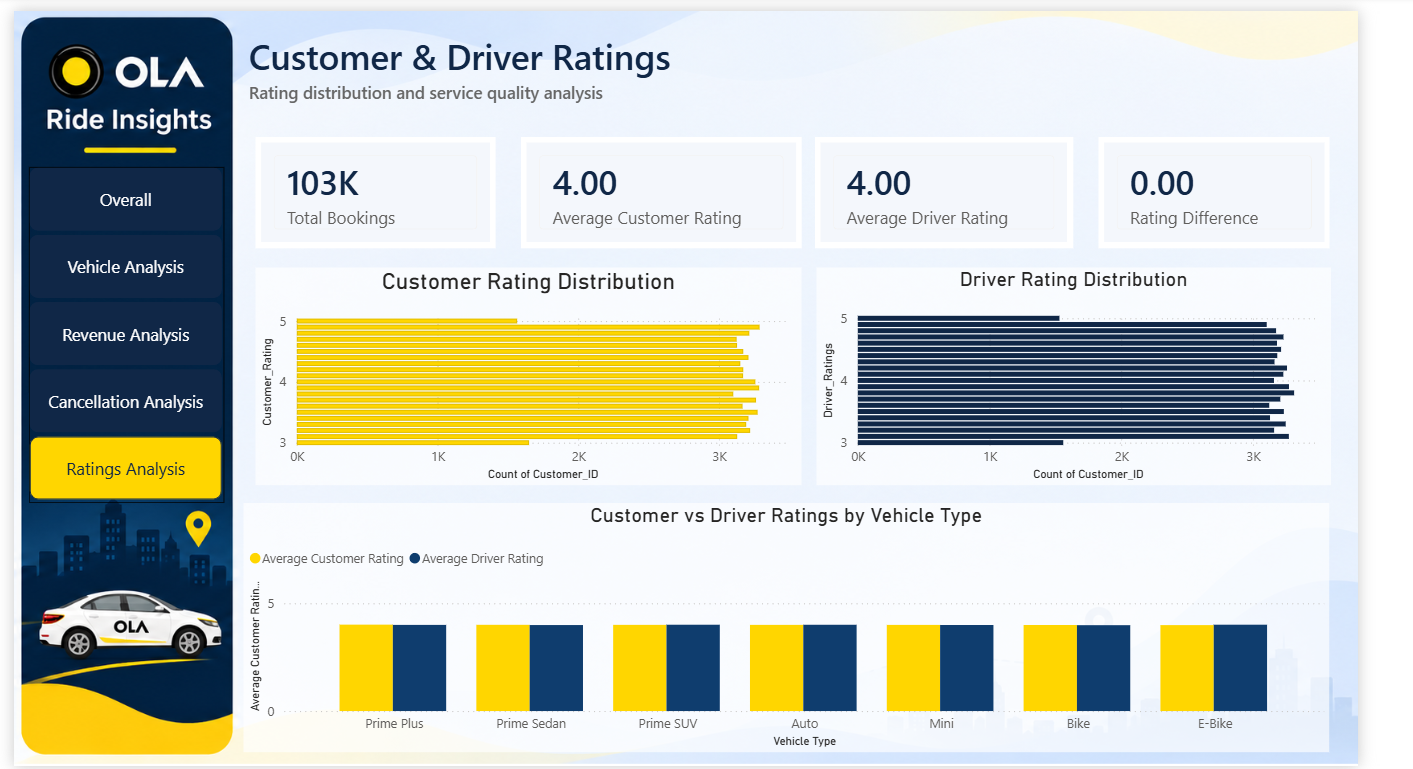

What the dashboard file says about the page in this screenshot:
{"tool":"powerbi","page":{"name":"Ratings Analysis","canvas":[1280,720],"ordinal":4},"visuals":[{"type":"cardVisual","fields":{"Data":["cleaned_ola_data.Average Customer Rating"]},"box":[482.9,120,267.1,105.7],"z":0},{"type":"cardVisual","fields":{"Data":["cleaned_ola_data.Average Driver Rating"]},"box":[762.9,120,245.7,105.7],"z":1000},{"type":"cardVisual","fields":{"Data":["cleaned_ola_data.Rating Difference"]},"box":[1032.9,120,220,105.7],"z":2000},{"type":"cardVisual","fields":{"Data":["cleaned_ola_data.Total Bookings"]},"box":[230,120,228.6,105.7],"z":3000},{"type":"clusteredBarChart","title":"Customer Rating Distribution","fields":{"Category":["cleaned_ola_data.Customer_Rating"],"Y":["CountNonNull(cleaned_ola_data.Customer_ID)"]},"box":[230,244.3,520,207.1],"z":4000},{"type":"clusteredBarChart","title":"Driver Rating Distribution","fields":{"Category":["cleaned_ola_data.Driver_Ratings"],"Y":["CountNonNull(cleaned_ola_data.Customer_ID)"]},"box":[764.3,244.3,490,207.1],"z":5000},{"type":"clusteredColumnChart","title":"Customer vs Driver Ratings by Vehicle Type","fields":{"Category":["cleaned_ola_data.Vehicle_Type"],"Y":["cleaned_ola_data.Average Customer Rating","cleaned_ola_data.Average Driver Rating"]},"box":[218.6,468.6,1034.3,237.1],"z":6000},{"type":"pageNavigator","box":[14.3,148.6,185.7,320],"z":6001},{"type":"textbox","title":"Customer & Driver Ratings","box":[218.6,20,1035.7,85.7],"z":6002}]}

Visuals, with their boxes on the page's 1280x720 design canvas (x1, y1, x2, y2). These are canvas units, not pixel positions in the 1413x769 screenshot, which may show the page scaled, cropped or inside an application window:
cardVisual - cleaned_ola_data.Average Customer Rating: bbox(483, 120, 750, 226)
cardVisual - cleaned_ola_data.Average Driver Rating: bbox(763, 120, 1009, 226)
cardVisual - cleaned_ola_data.Rating Difference: bbox(1033, 120, 1253, 226)
cardVisual - cleaned_ola_data.Total Bookings: bbox(230, 120, 459, 226)
"Customer Rating Distribution" clusteredBarChart: bbox(230, 244, 750, 451)
"Driver Rating Distribution" clusteredBarChart: bbox(764, 244, 1254, 451)
"Customer vs Driver Ratings by Vehicle Type" clusteredColumnChart: bbox(219, 469, 1253, 706)
pageNavigator: bbox(14, 149, 200, 469)
"Customer & Driver Ratings" textbox: bbox(219, 20, 1254, 106)
